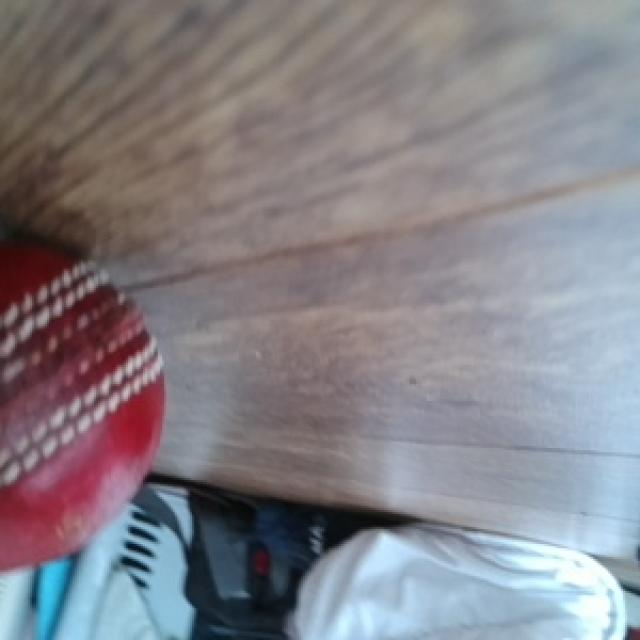ball: (0, 241, 169, 578)
